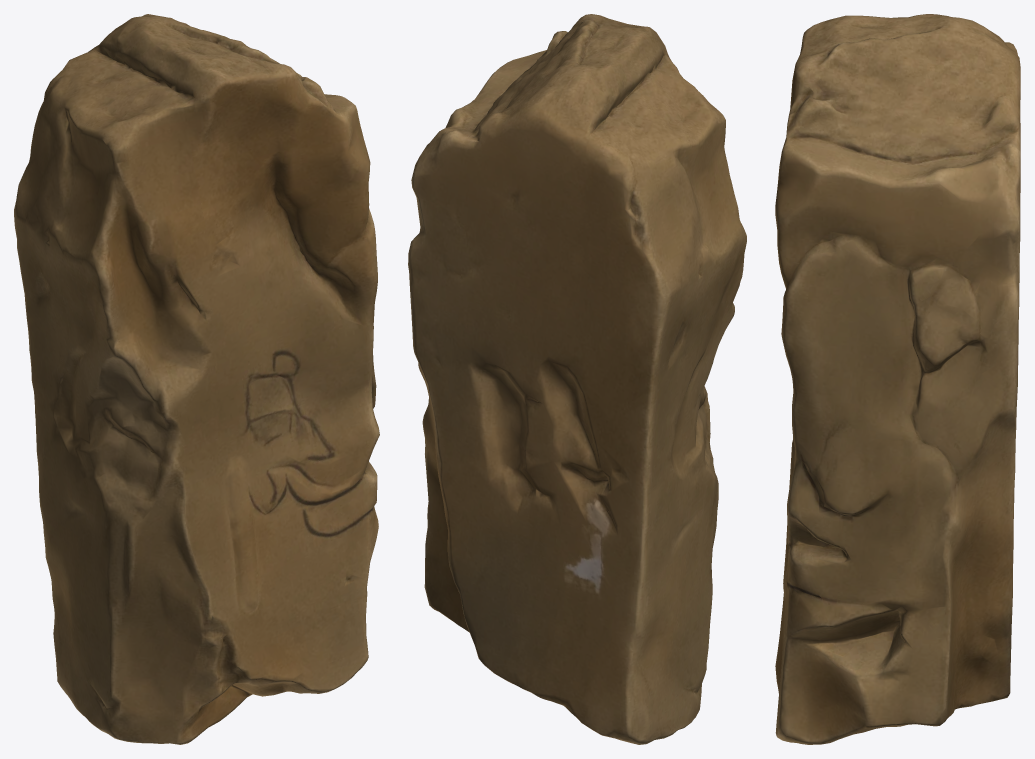
The model's file is petroglyph-stela.glb.
3 renders of one model, left to right at view 1: azimuth 30°, elevation 25°; view 2: azimuth 150°, elevation 25°; view 3: azimuth 270°, elevation 25°, orthographic. The views are drawn at different scales.
Visible parts, largest first — view 1: geom0; view 2: geom0; view 3: geom0.
Part boxes in pixels (left/top/right/bottom): geom0: left=14, top=14, right=379, bottom=744; geom0: left=408, top=14, right=746, bottom=744; geom0: left=775, top=14, right=1020, bottom=744.
Size of the model in its own units: 0.7877 by 1.8 by 0.5625.
1 material, 1 textured.
